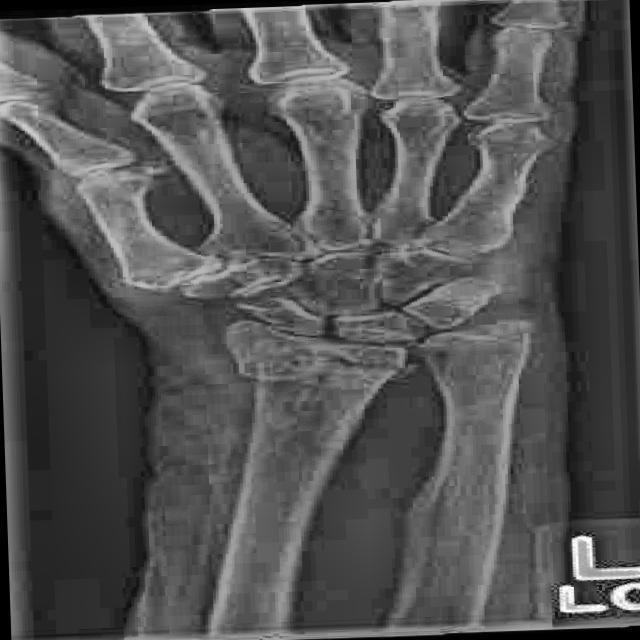fingers positive: (174, 294, 553, 398)
